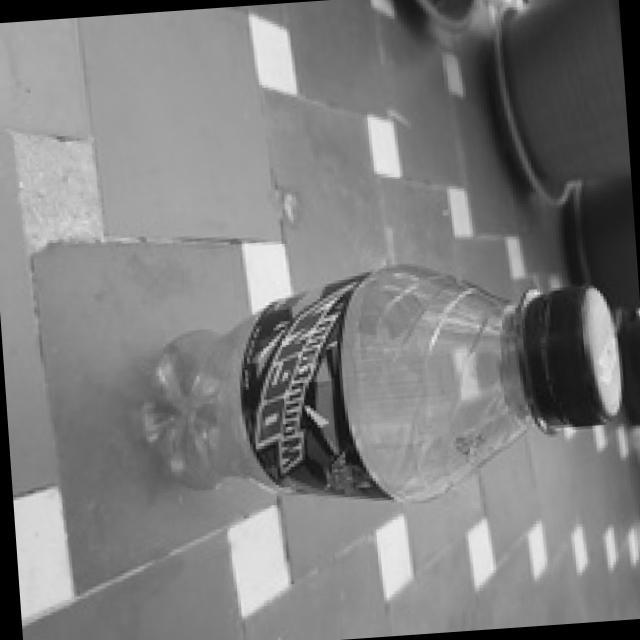good: (122, 244, 630, 527)
